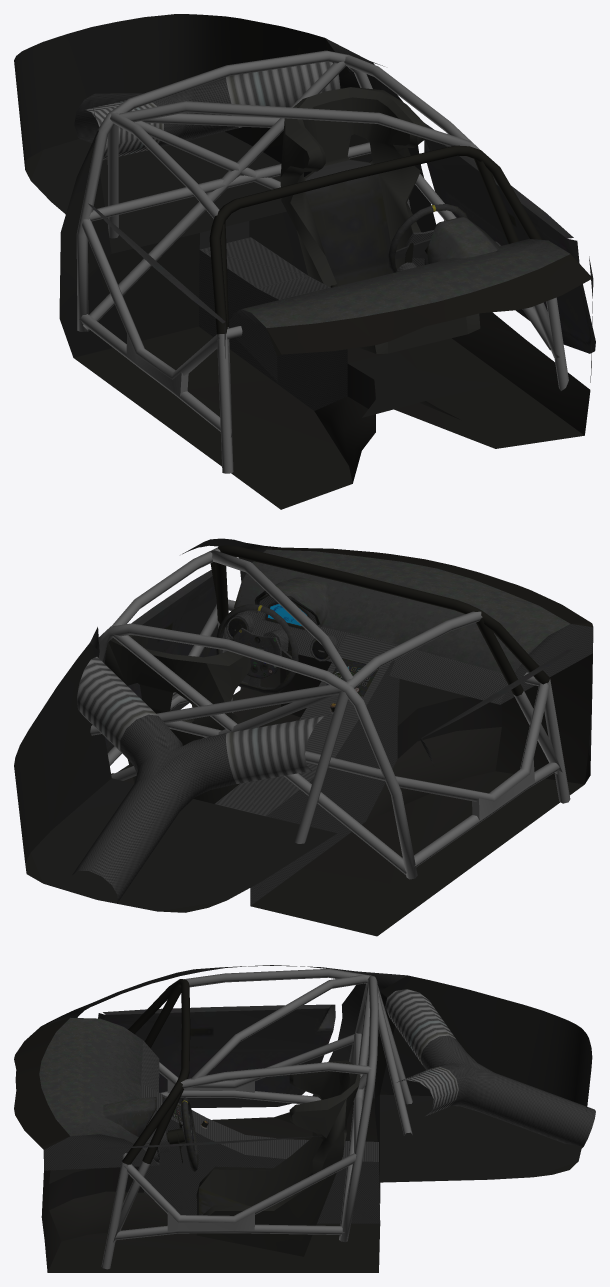
Rendered from gt_amv_int.glb.
3 views of the same model, one above another, from view 1: azimuth 30°, elevation 25°; view 2: azimuth 150°, elevation 25°; view 3: azimuth 270°, elevation 25° (orthographic). The views are drawn at different scales.
Visible parts, largest first — view 1: LOD_A_INTERIOR_mm_cab, LOD_A_DOOR_LEFT_mm_cab, STEER_0, LOD_A_DOOR_RIGHT_mm_cab; view 2: LOD_A_INTERIOR_mm_cab, LOD_A_DOOR_LEFT_mm_cab, STEER_0, LOD_A_DOOR_RIGHT_mm_cab; view 3: LOD_A_INTERIOR_mm_cab, LOD_A_DOOR_RIGHT_mm_cab, STEER_0, LOD_A_DOOR_LEFT_mm_cab.
Part boxes in pixels (x1,y1,x2,y2): LOD_A_INTERIOR_mm_cab: [14, 14, 593, 509]; LOD_A_DOOR_LEFT_mm_cab: [424, 123, 595, 353]; STEER_0: [388, 204, 468, 272]; LOD_A_DOOR_RIGHT_mm_cab: [88, 203, 225, 358]; LOD_A_INTERIOR_mm_cab: [14, 538, 593, 936]; LOD_A_DOOR_LEFT_mm_cab: [103, 570, 218, 752]; STEER_0: [216, 604, 298, 693]; LOD_A_DOOR_RIGHT_mm_cab: [420, 649, 572, 766]; LOD_A_INTERIOR_mm_cab: [14, 965, 595, 1272]; LOD_A_DOOR_RIGHT_mm_cab: [98, 1004, 335, 1107]; STEER_0: [168, 1097, 198, 1171]; LOD_A_DOOR_LEFT_mm_cab: [103, 1135, 325, 1148].
Bounding box in the file's own units: 1.59 × 1.05 × 2.65.
Materials: 1 (1 with a texture image).
